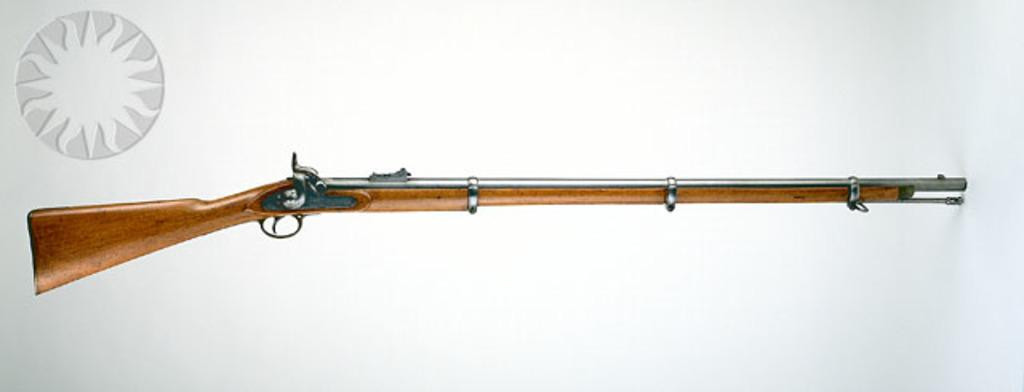Rifle: (0, 152, 958, 309)
